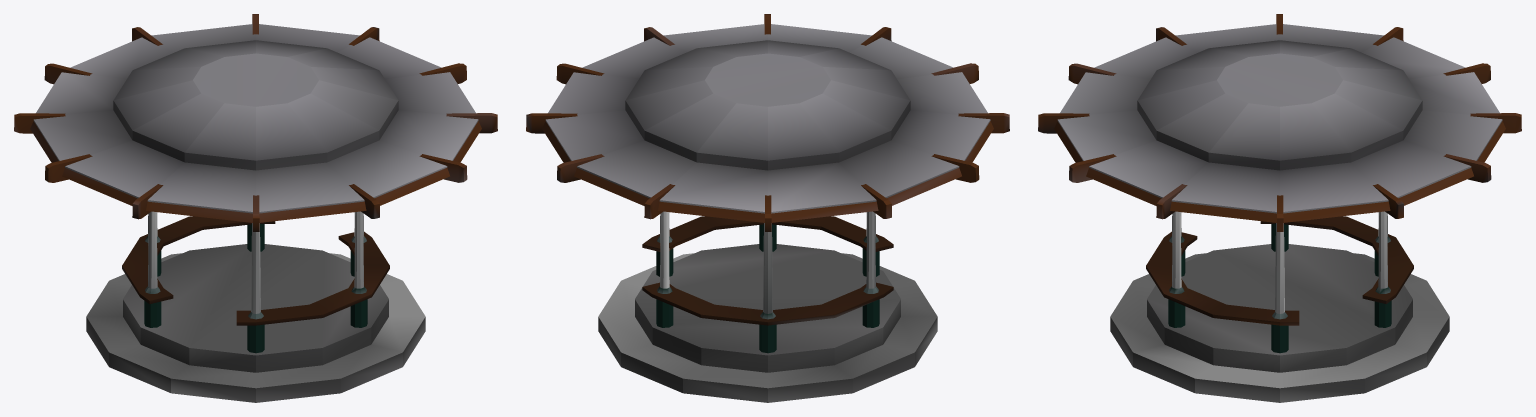
The model's file is coreto.fbx.
3 views of the same model, side by side, from view 1: azimuth 30°, elevation 25°; view 2: azimuth 150°, elevation 25°; view 3: azimuth 270°, elevation 25° (orthographic).
Visible parts, largest first — view 1: coreto; view 2: coreto; view 3: coreto.
Boxes of the visible parts, x1,y1,x2,y2 form: coreto: [14, 14, 497, 402]; coreto: [526, 14, 1009, 402]; coreto: [1038, 14, 1521, 402].
Size of the model in its own units: 698 by 400 by 698.
